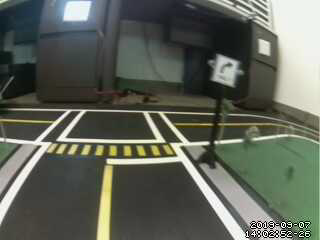Right_only_sign: (209, 49, 236, 96)
